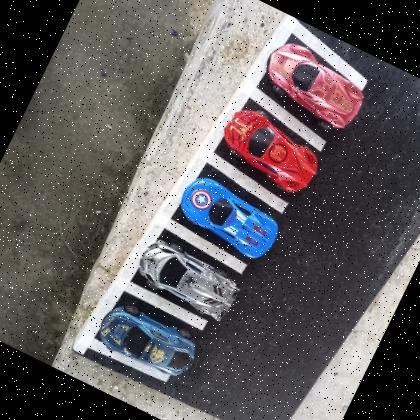Car: (253, 35, 374, 137), (212, 102, 329, 198), (168, 171, 286, 264), (130, 234, 246, 324), (93, 298, 202, 384)
